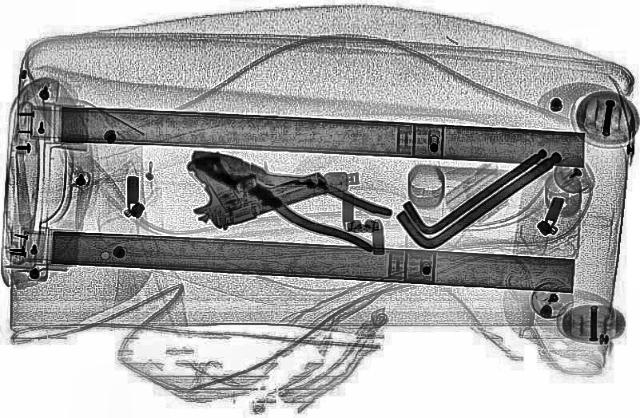Gun: (152, 130, 336, 233)
Pliers: (168, 135, 412, 255)
